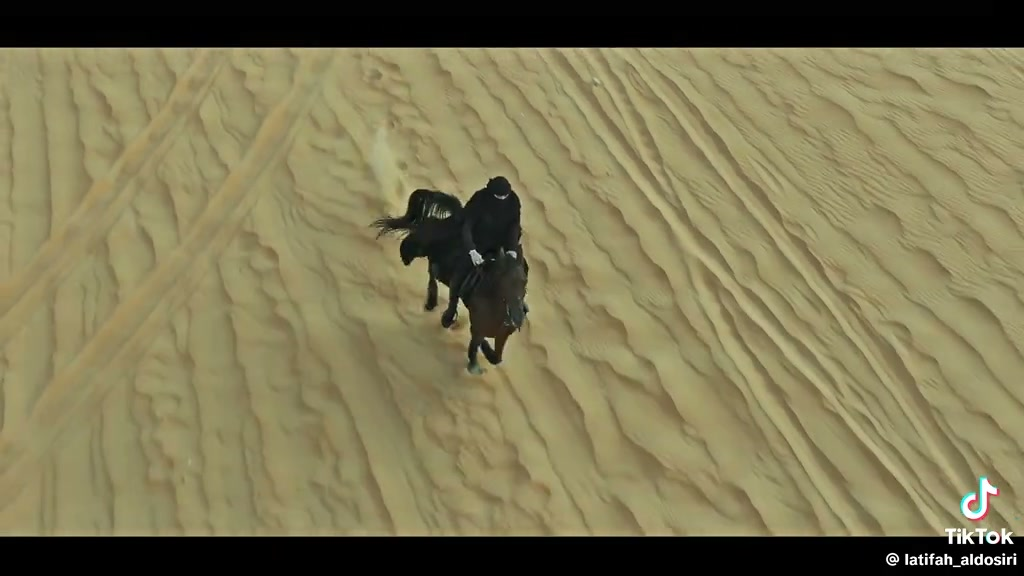animal: (371, 189, 527, 373)
human: (441, 176, 522, 327)
vehicle_track: (527, 38, 1009, 530), (0, 56, 330, 503), (0, 36, 238, 343)
